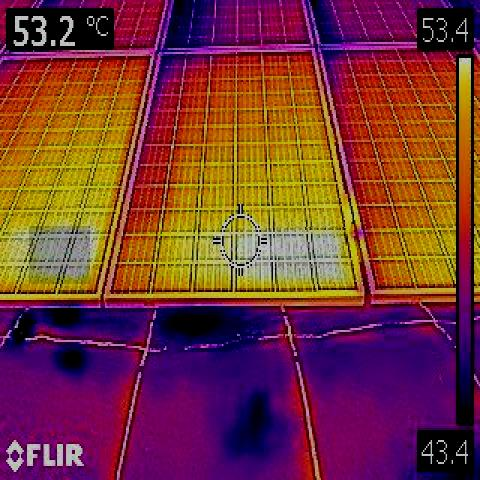fault: (276, 227, 347, 284), (29, 226, 90, 284)
